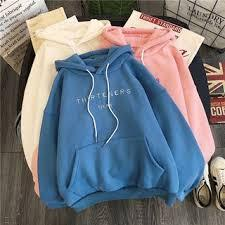sweater: (35, 49, 206, 206)
